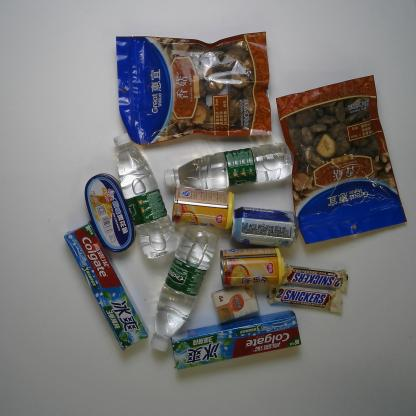Alcohol: (228, 206, 299, 248)
Canned Food: (84, 172, 137, 253), (171, 184, 235, 231), (219, 245, 286, 288)
Chocolate: (266, 281, 343, 314), (281, 264, 349, 293)
Dried Food: (276, 73, 406, 245), (115, 30, 273, 146)
Drink: (149, 224, 218, 352), (113, 133, 179, 260), (163, 142, 294, 191)
Personal Hygiene: (63, 220, 150, 352), (170, 310, 302, 370)
Tissue: (210, 284, 260, 324)
